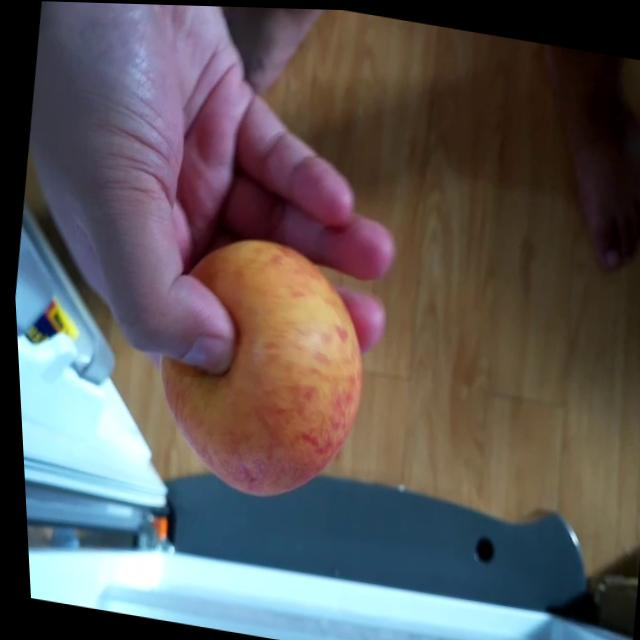apple: (131, 230, 382, 512)
